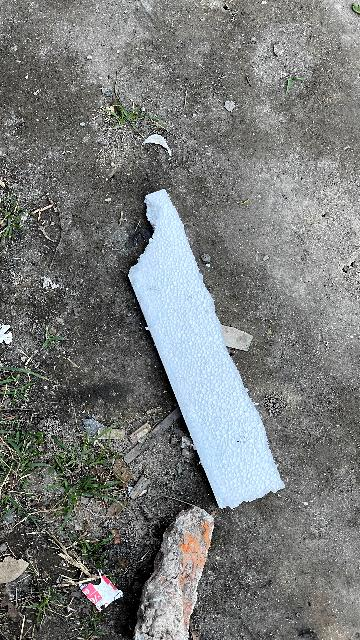cocksheet: (124, 181, 302, 514)
